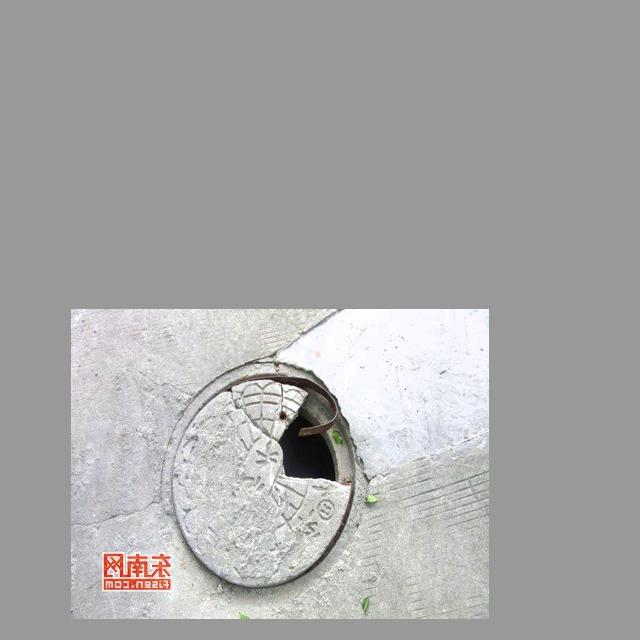broke: (153, 349, 376, 610)
